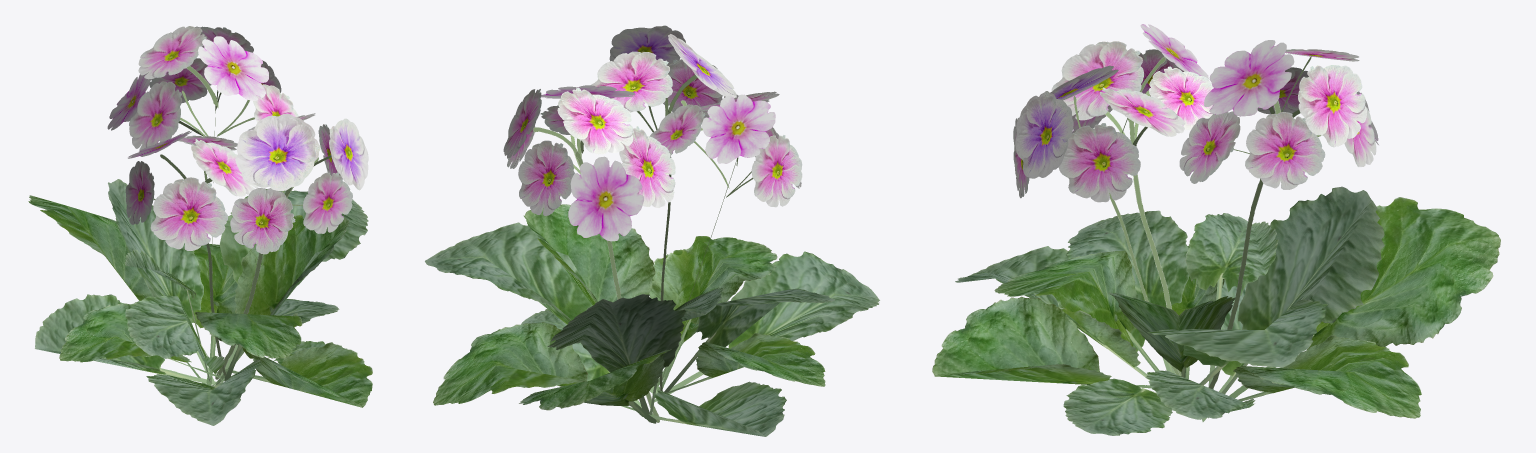
The model's file is PrimroseObconica3B.fbx.
3 views of the same model, side by side, from view 1: azimuth 30°, elevation 25°; view 2: azimuth 150°, elevation 25°; view 3: azimuth 270°, elevation 25° (orthographic). The views are drawn at different scales.
Visible parts, largest first — view 1: PrimroseObconica3B_LOD1; view 2: PrimroseObconica3B_LOD1; view 3: PrimroseObconica3B_LOD1.
Part boxes in pixels (box(x1,y1,x2,y2)): PrimroseObconica3B_LOD1: box(28, 26, 372, 425); PrimroseObconica3B_LOD1: box(425, 25, 879, 436); PrimroseObconica3B_LOD1: box(932, 24, 1500, 435).
Size of the model in its own units: 51.34 by 46.66 by 61.97.
